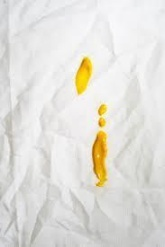mustard: (87, 129, 114, 190), (73, 59, 90, 98), (96, 104, 107, 118), (97, 120, 105, 128)
